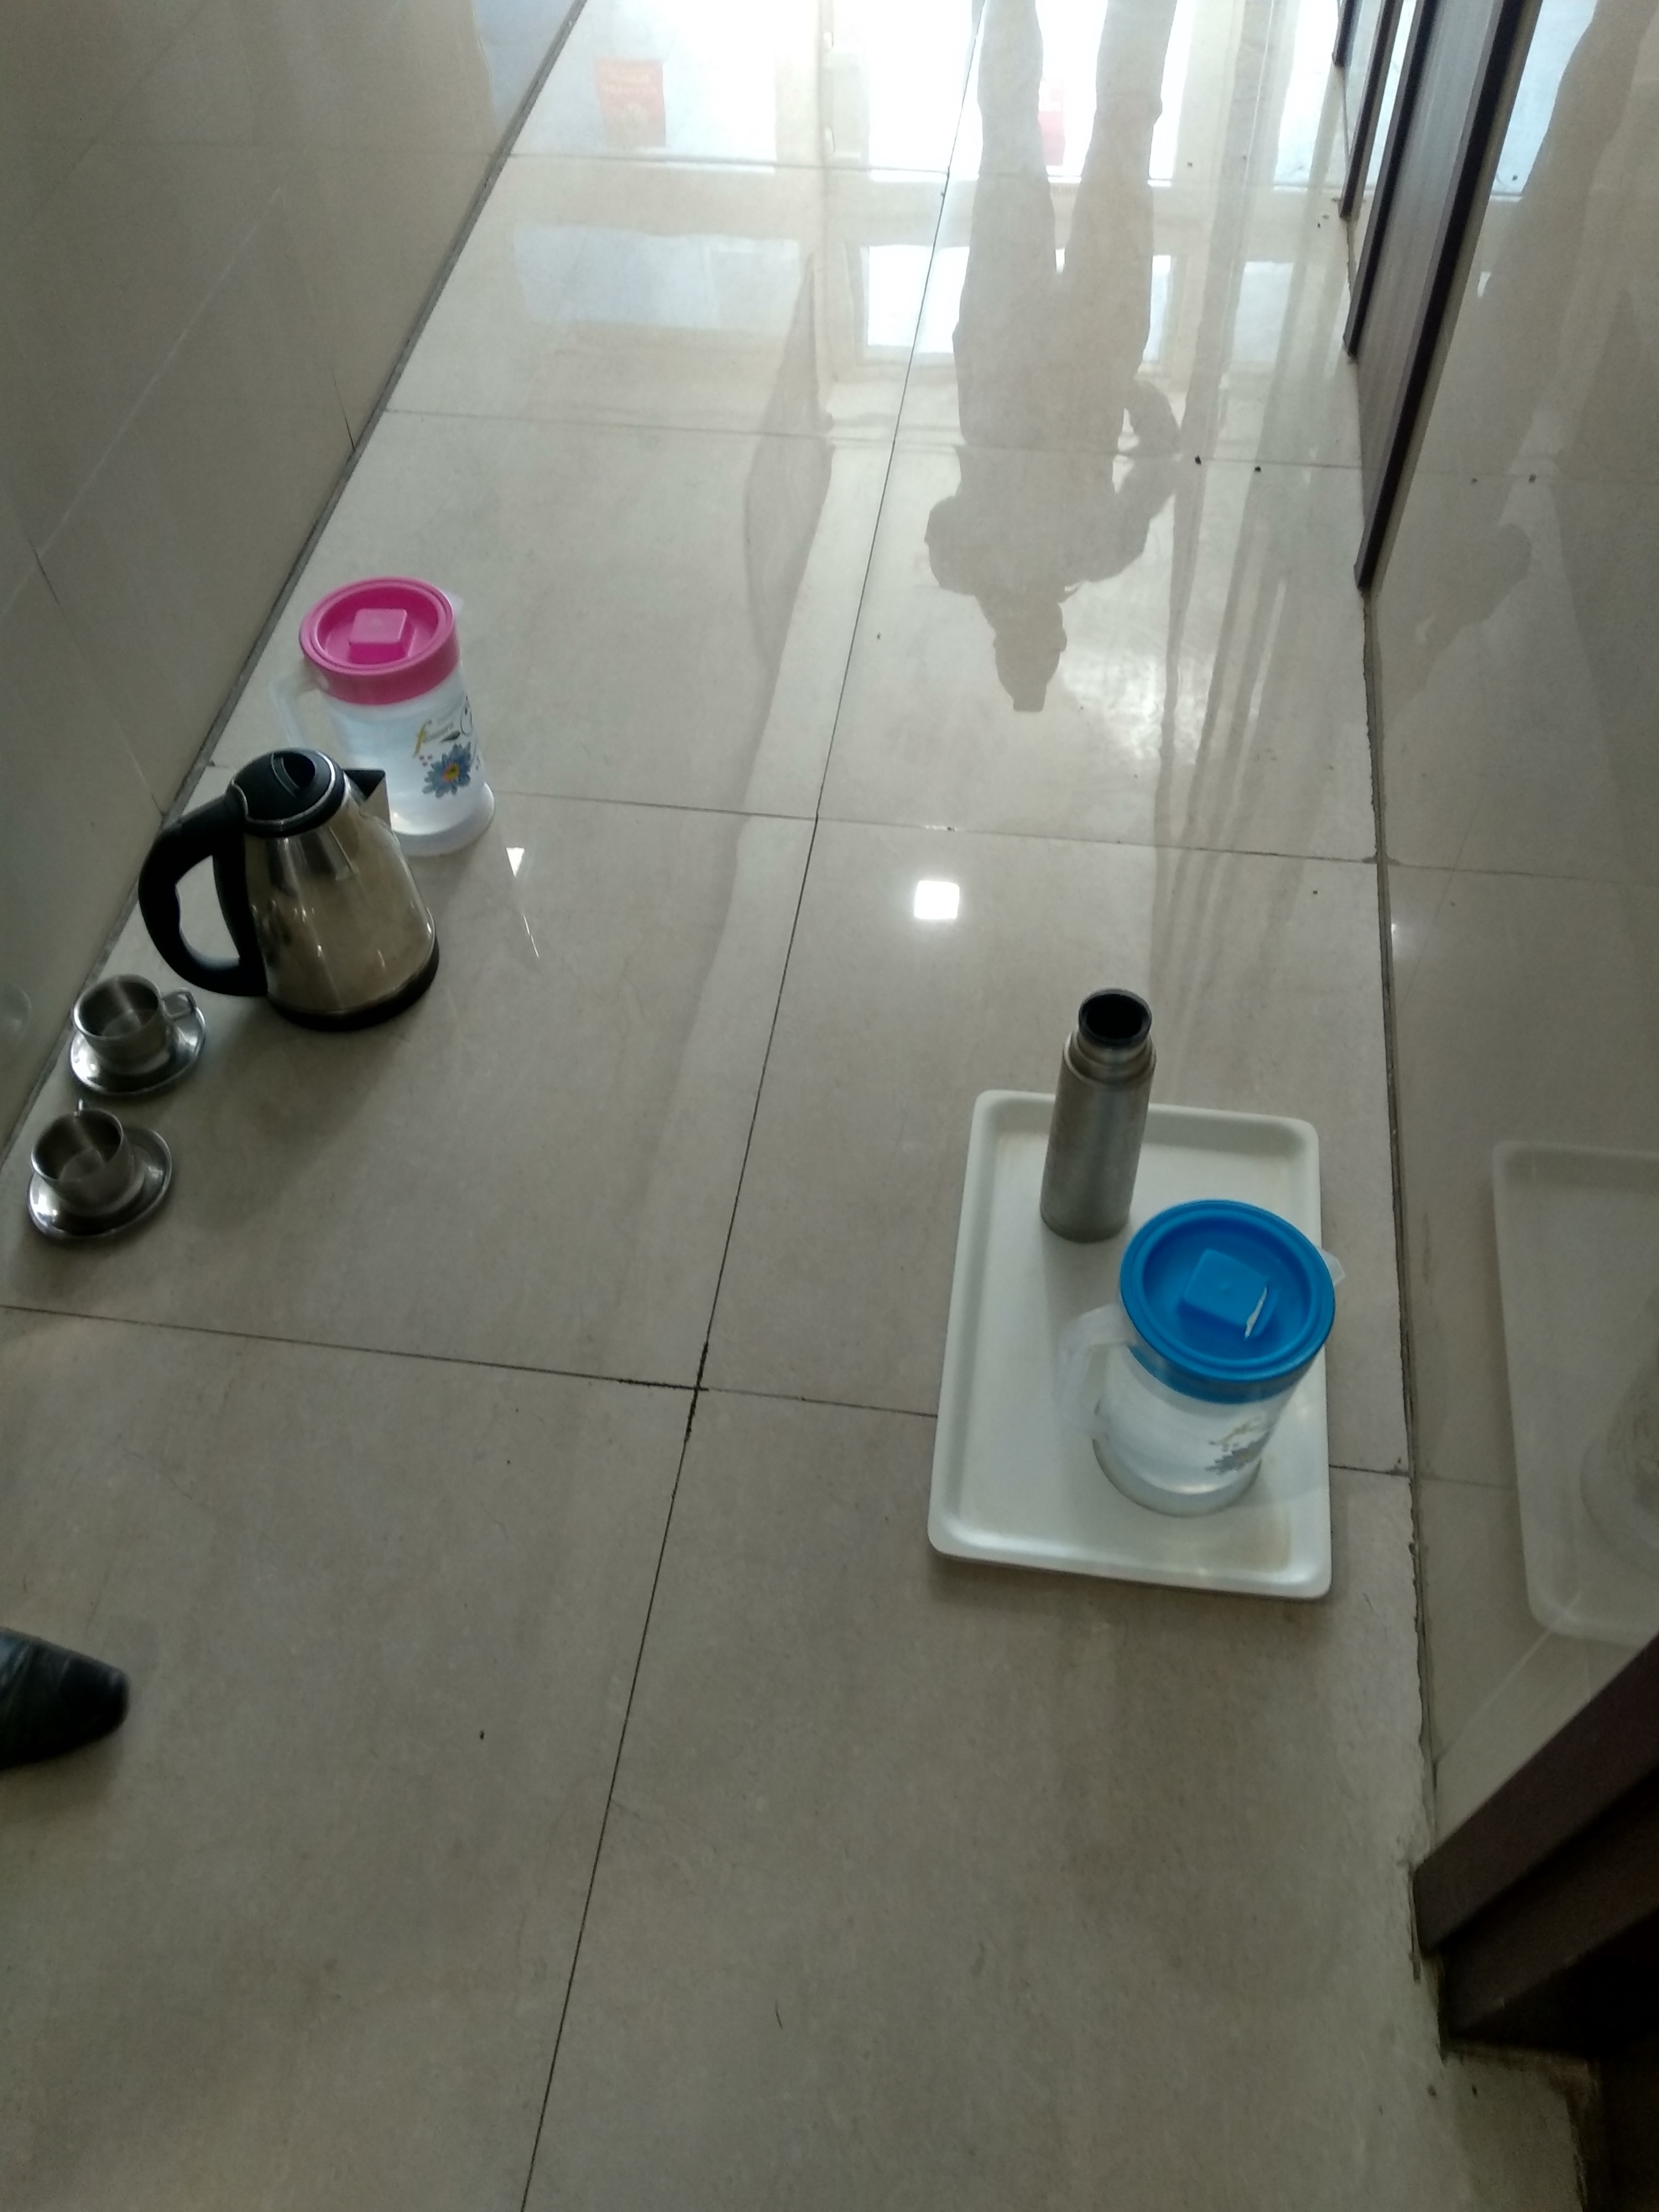CUP: (54, 953, 232, 1099), (33, 1099, 183, 1242)
FLASK: (1044, 967, 1159, 1254)
JUG: (1054, 1184, 1363, 1562), (132, 737, 471, 1035), (270, 582, 488, 745)
